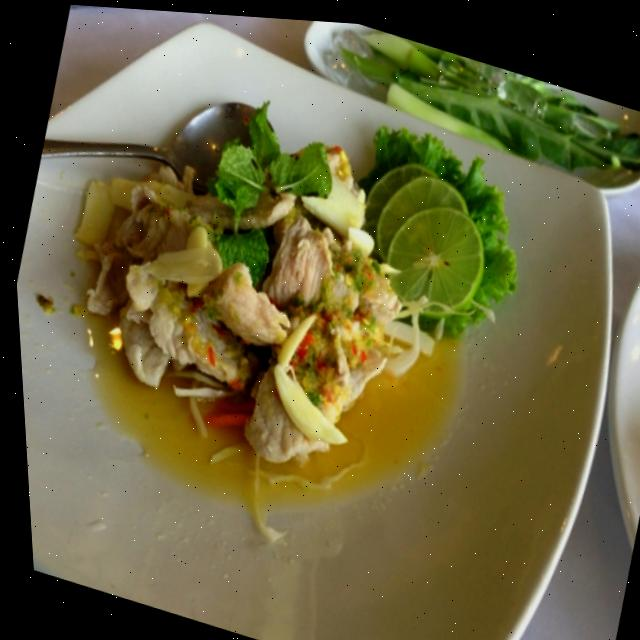猪肉菜式: (2, 33, 543, 561)
